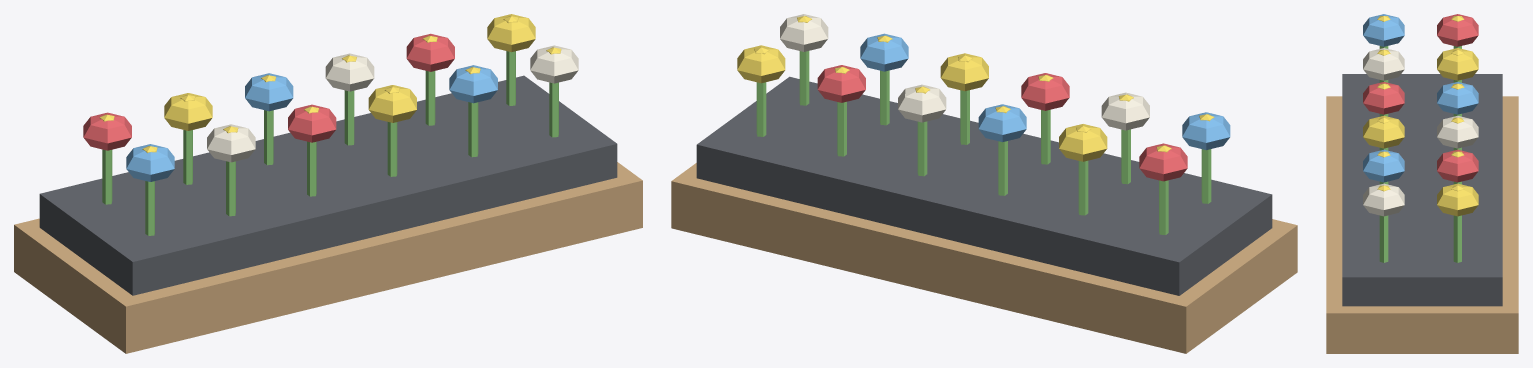
The model's file is lawn-mowing-simulator-kit-flower-bed-border-piece-6629e5db__27392.glb.
The picture shows the model from 3 angles, left to right: view 1: azimuth 30°, elevation 25°; view 2: azimuth 150°, elevation 25°; view 3: azimuth 270°, elevation 25°; orthographic projection. The views are drawn at different scales.
Parts seen in each view (by area): view 1: flower-bed-border-piece; view 2: flower-bed-border-piece; view 3: flower-bed-border-piece.
Part boxes in pixels (x1,y1,x2,y2): flower-bed-border-piece: (14,14,642,353); flower-bed-border-piece: (671,14,1297,353); flower-bed-border-piece: (1326,14,1518,353).
Size of the model in its own units: 1.6 by 0.5 by 0.6001.
